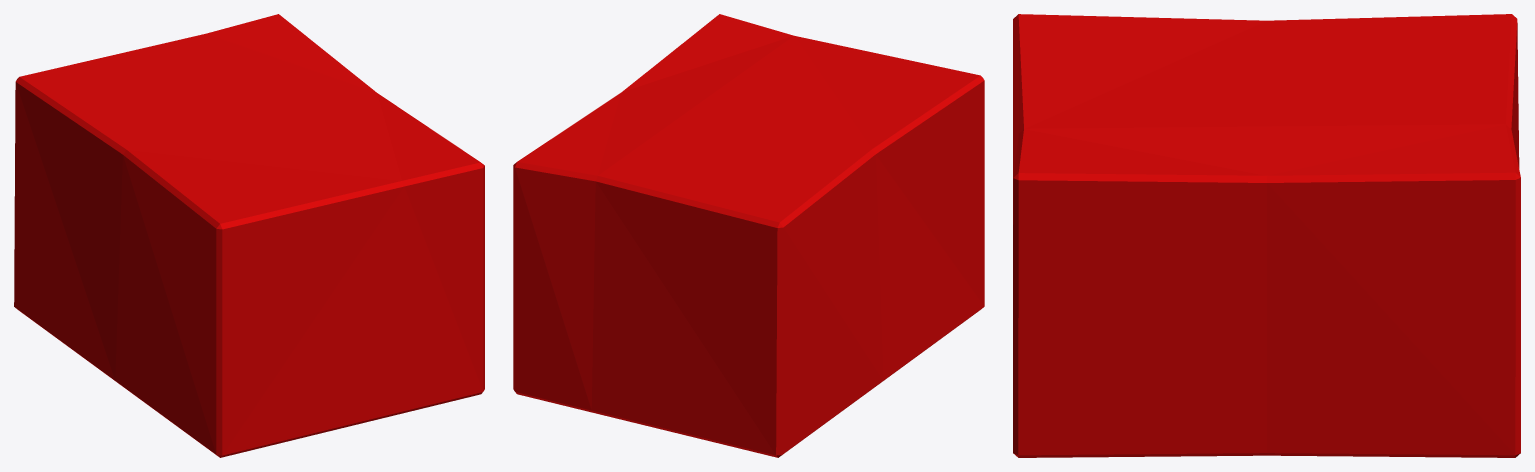
3 views of the same model, side by side, from view 1: azimuth 30°, elevation 25°; view 2: azimuth 150°, elevation 25°; view 3: azimuth 270°, elevation 25° (orthographic). The views are drawn at different scales.
Visible parts, largest first — view 1: Mesh; view 2: Mesh; view 3: Mesh.
Part boxes in pixels (bbox=[...]): Mesh: bbox=[14, 14, 484, 457]; Mesh: bbox=[513, 14, 984, 457]; Mesh: bbox=[1013, 14, 1520, 457].
Size of the model in its own units: 0.5999 by 0.4999 by 0.8.
